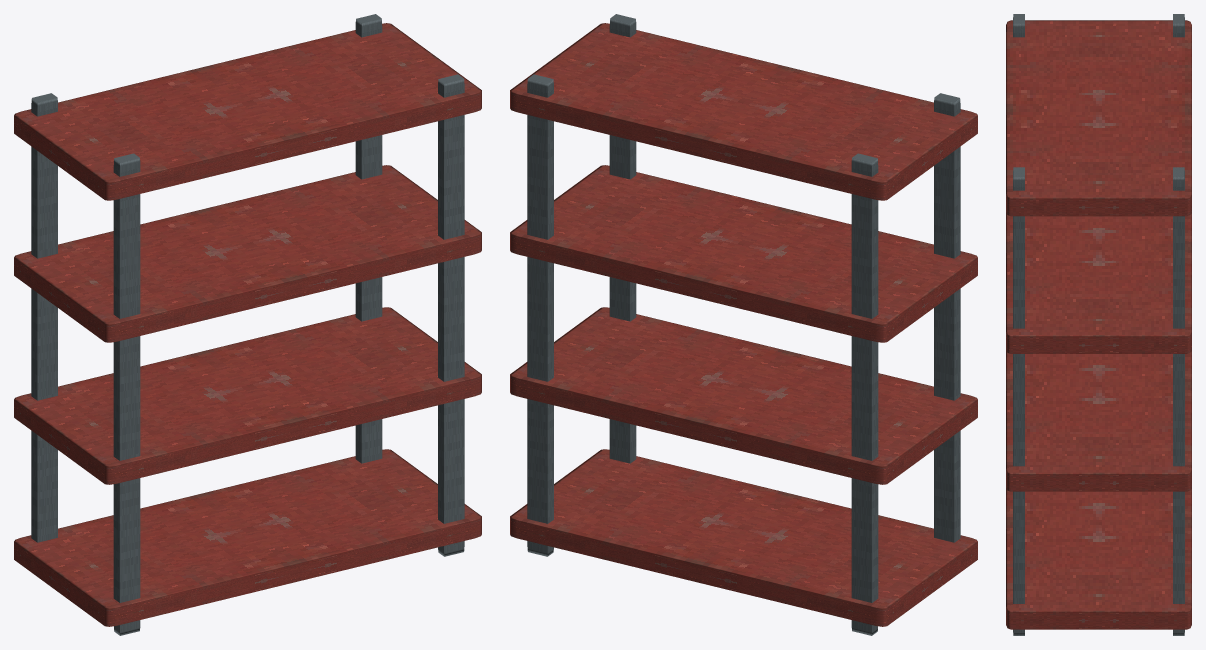
Rendered from marine-rack.glb.
3 views of the same model, side by side, from view 1: azimuth 30°, elevation 25°; view 2: azimuth 150°, elevation 25°; view 3: azimuth 270°, elevation 25° (orthographic). The views are drawn at different scales.
Visible parts, largest first — view 1: shelf (×4), leg (×4); view 2: shelf (×4), leg (×4); view 3: shelf (×4), leg (×4).
Boxes of the visible parts, left/top/right/bottom form: shelf (×4): left=14, top=23, right=481, bottom=626; leg (×4): left=31, top=14, right=464, bottom=635; shelf (×4): left=510, top=23, right=977, bottom=626; leg (×4): left=527, top=14, right=960, bottom=635; shelf (×4): left=1006, top=20, right=1191, bottom=629; leg (×4): left=1013, top=14, right=1184, bottom=635.
Size of the model in its own units: 1.5 by 1.8 by 0.66.
Materials: 2 (2 with a texture image).
